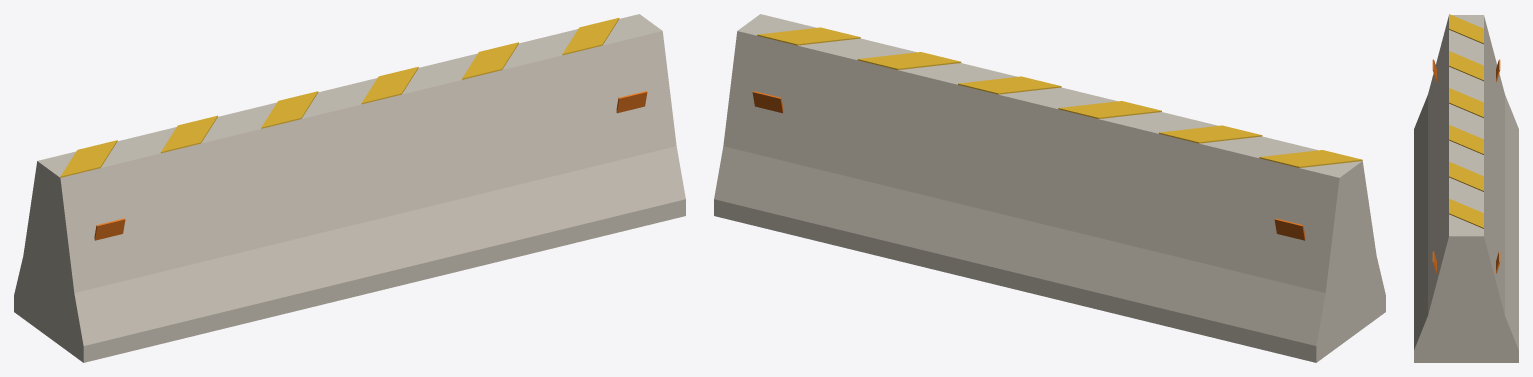
File: concrete_barrier.glb
3 renders of one model, left to right at view 1: azimuth 30°, elevation 25°; view 2: azimuth 150°, elevation 25°; view 3: azimuth 270°, elevation 25°, orthographic. The views are drawn at different scales.
Parts seen in each view (by area): view 1: Body; view 2: Body; view 3: Body.
Part boxes in pixels (left/top/right/bottom): Body: left=14, top=14, right=685, bottom=362; Body: left=714, top=14, right=1385, bottom=362; Body: left=1414, top=14, right=1518, bottom=362.
Bounding box in the file's own units: 3 × 0.806 × 0.6.
